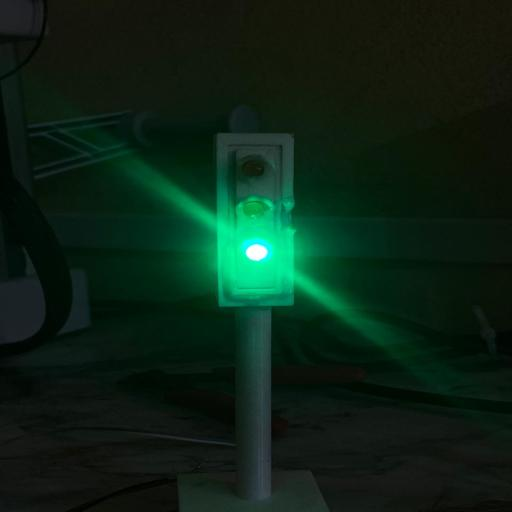Green Light: (246, 244, 268, 261)
